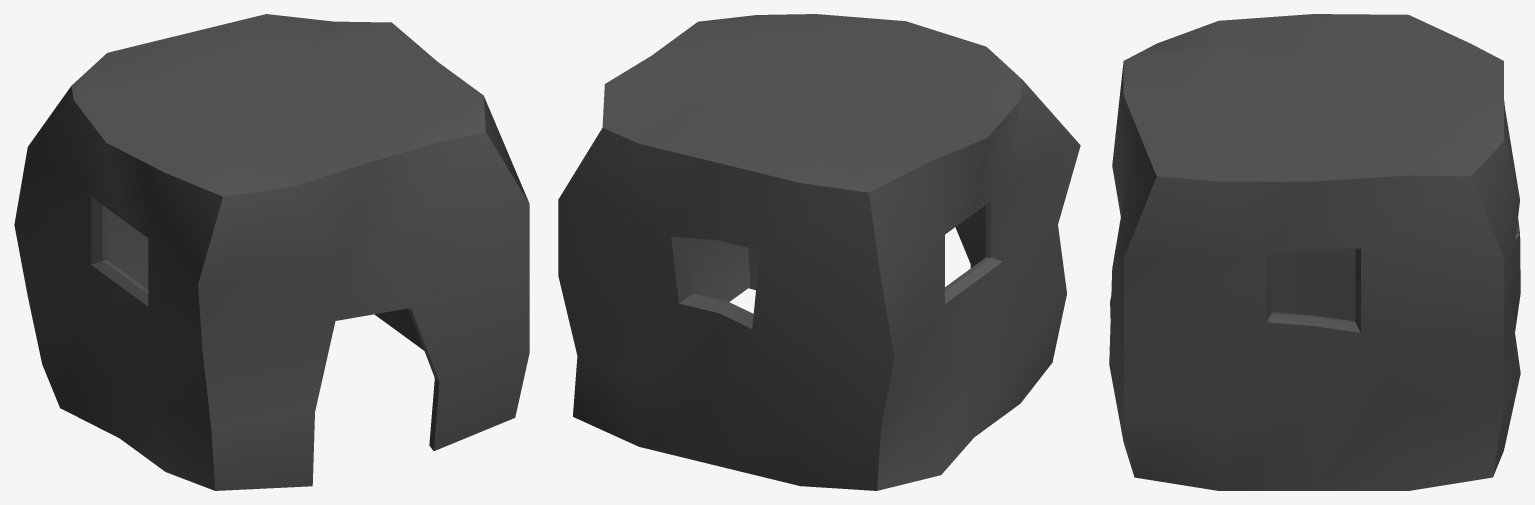
Rendered from Mesh_House_Interior_Temple_TL.fbx.
3 renders of one model, left to right at view 1: azimuth 30°, elevation 25°; view 2: azimuth 150°, elevation 25°; view 3: azimuth 270°, elevation 25°, orthographic. The views are drawn at different scales.
Parts seen in each view (by area): view 1: Mesh_House_Interior_Temple_TL; view 2: Mesh_House_Interior_Temple_TL; view 3: Mesh_House_Interior_Temple_TL.
Part boxes in pixels (x1=…): Mesh_House_Interior_Temple_TL: x1=14, y1=14, x2=529, y2=490; Mesh_House_Interior_Temple_TL: x1=558, y1=14, x2=1080, y2=490; Mesh_House_Interior_Temple_TL: x1=1109, y1=14, x2=1520, y2=490.
Size of the model in its own units: 651 by 558 by 649.
1 material, 1 textured.
